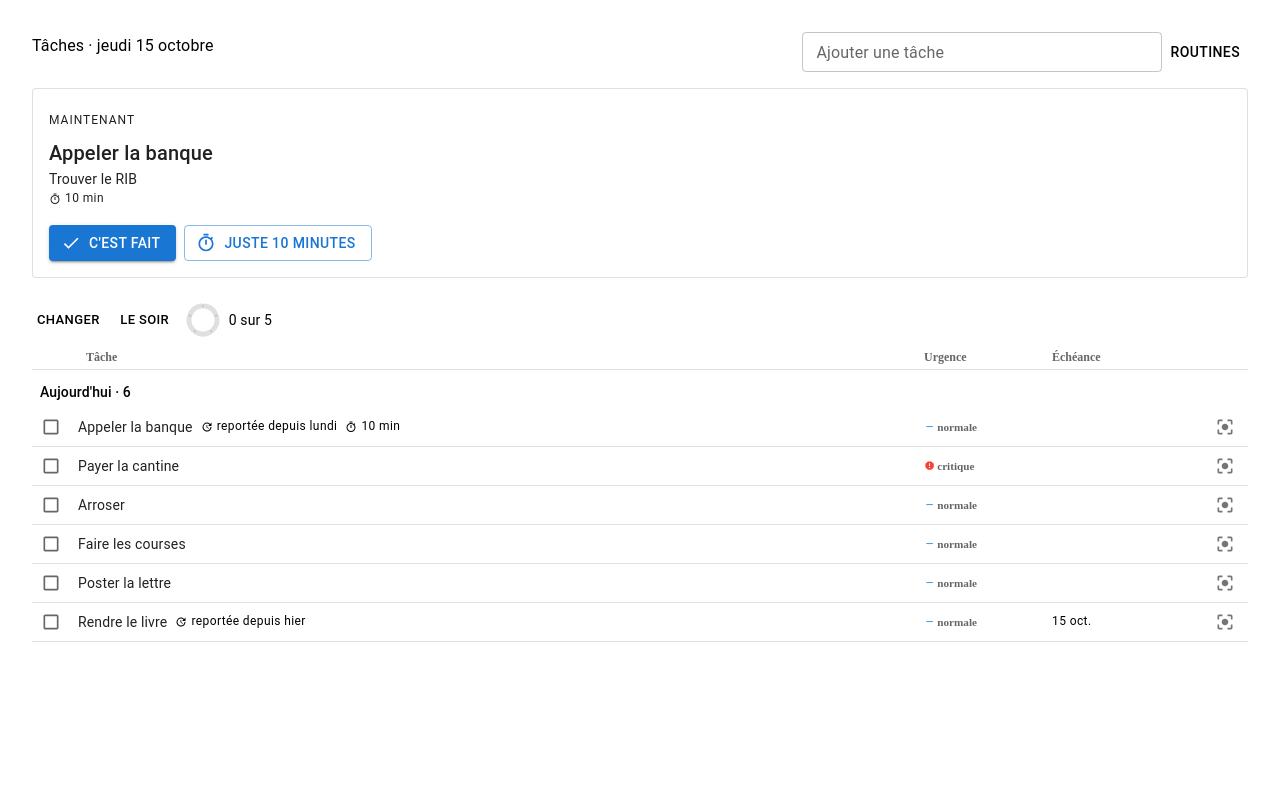
it: TaskBoard › « Aujourd'hui » — the day of five (MAG-497) › the quick add (MAG-644) › with the five taken, the task stays out of the day and shows in the list
Type "Acheter du pain" into the field labelled "Ajouter une tâche" at (982, 52), box [802,32,1162,72]
Then press Enter
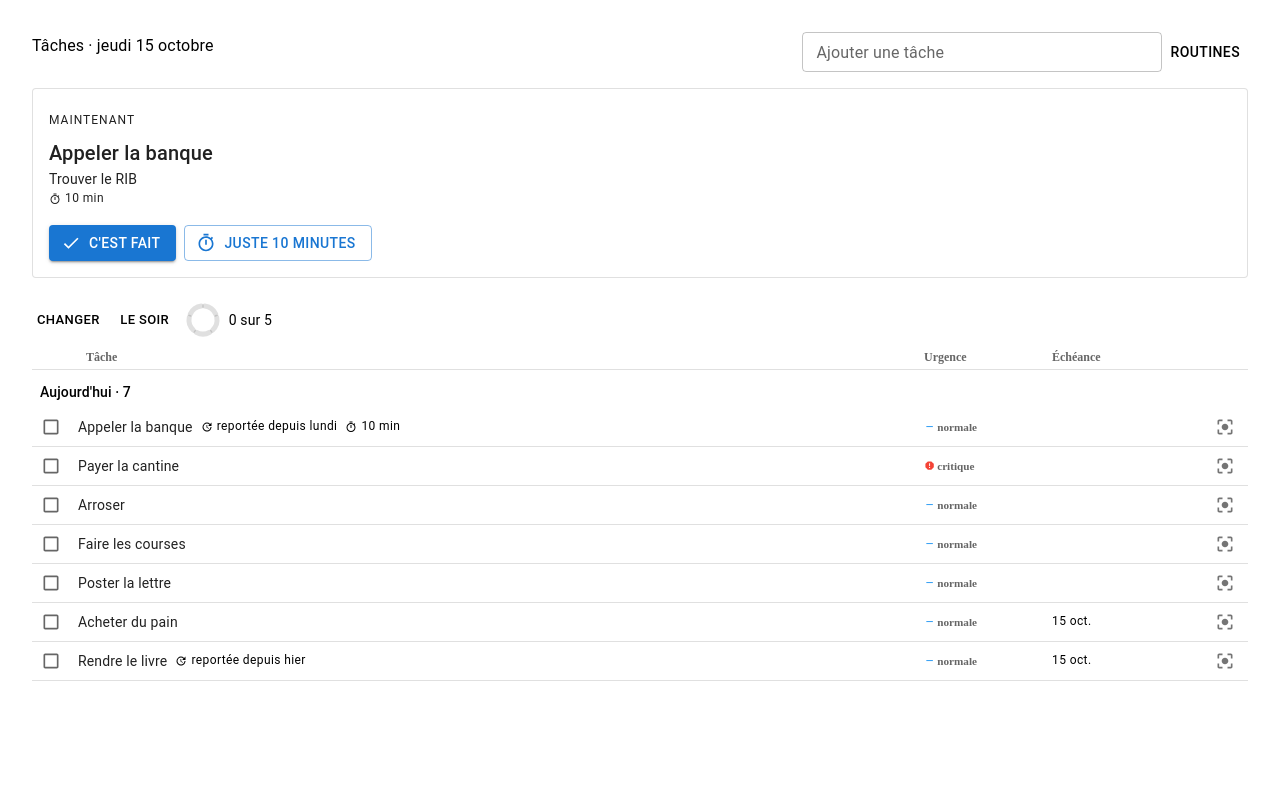
Check: the text "Acheter du pain" is shown, box [78,612,178,632]
